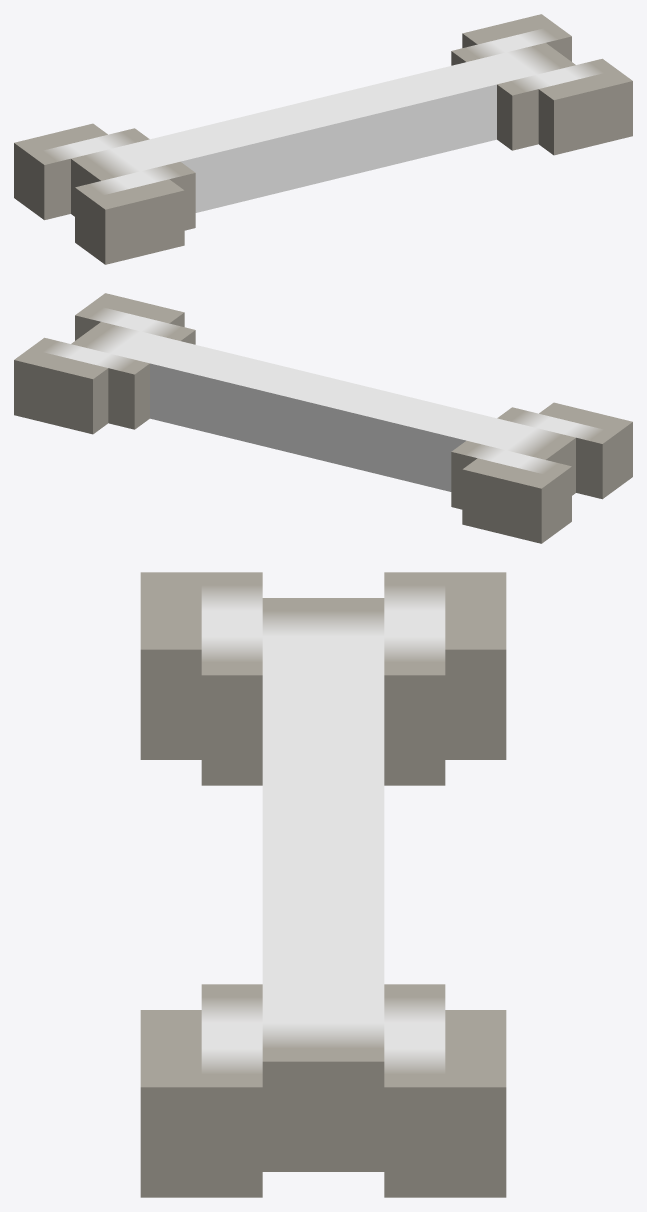
Rendered from bone1.fbx.
The picture shows the model from 3 angles, top to bottom: view 1: azimuth 30°, elevation 25°; view 2: azimuth 150°, elevation 25°; view 3: azimuth 270°, elevation 25°; orthographic projection. The views are drawn at different scales.
Visible parts, largest first — view 1: bone1; view 2: bone1; view 3: bone1.
Part boxes in pixels (left/top/right/bottom): bone1: left=14, top=14, right=632, bottom=264; bone1: left=14, top=293, right=632, bottom=543; bone1: left=140, top=572, right=506, bottom=1197.
Bounding box in the file's own units: 20 × 2 × 6.
Materials: 1 (1 with a texture image).
